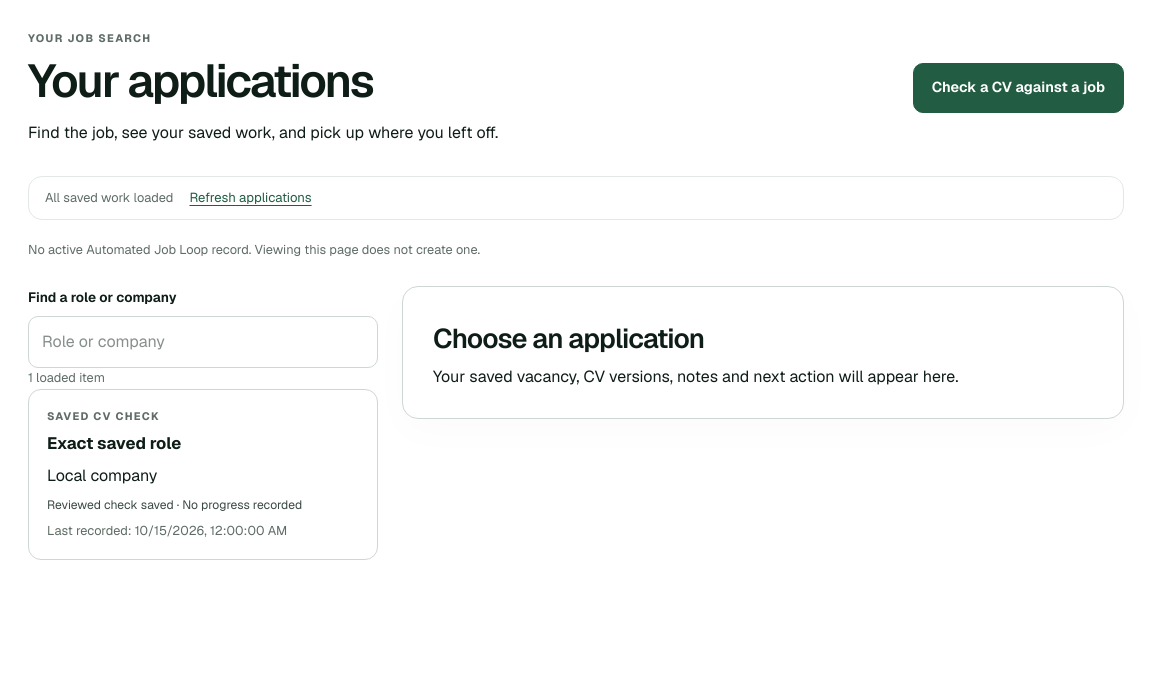
it: independent shared Applications home boundaries › hides loaded details while authentication is unresolved: loading
This screenshot has width=1152, height=692.
What coordinates should you click on to do the following:
click the button that starts with "Saved CV check"
I would click on:
 (104, 416)
Its box is [28, 389, 378, 560].
(page scrolled)
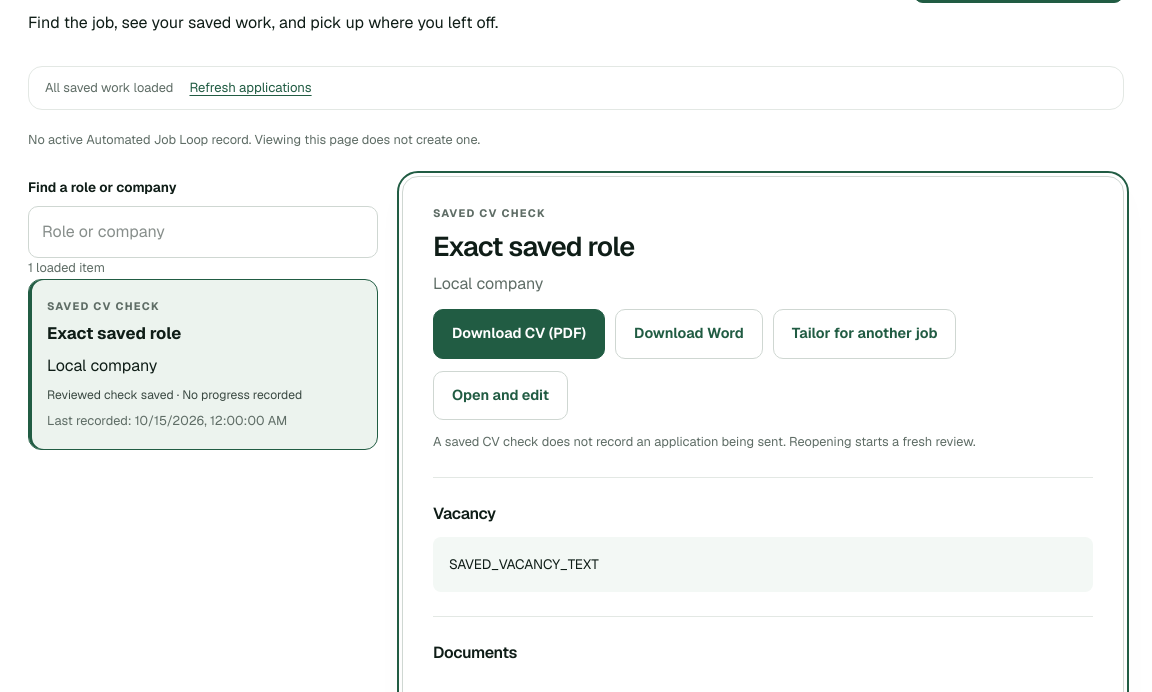
Expected: the text "SAVED_VACANCY_TEXT" is shown, [433, 537, 1093, 592]
